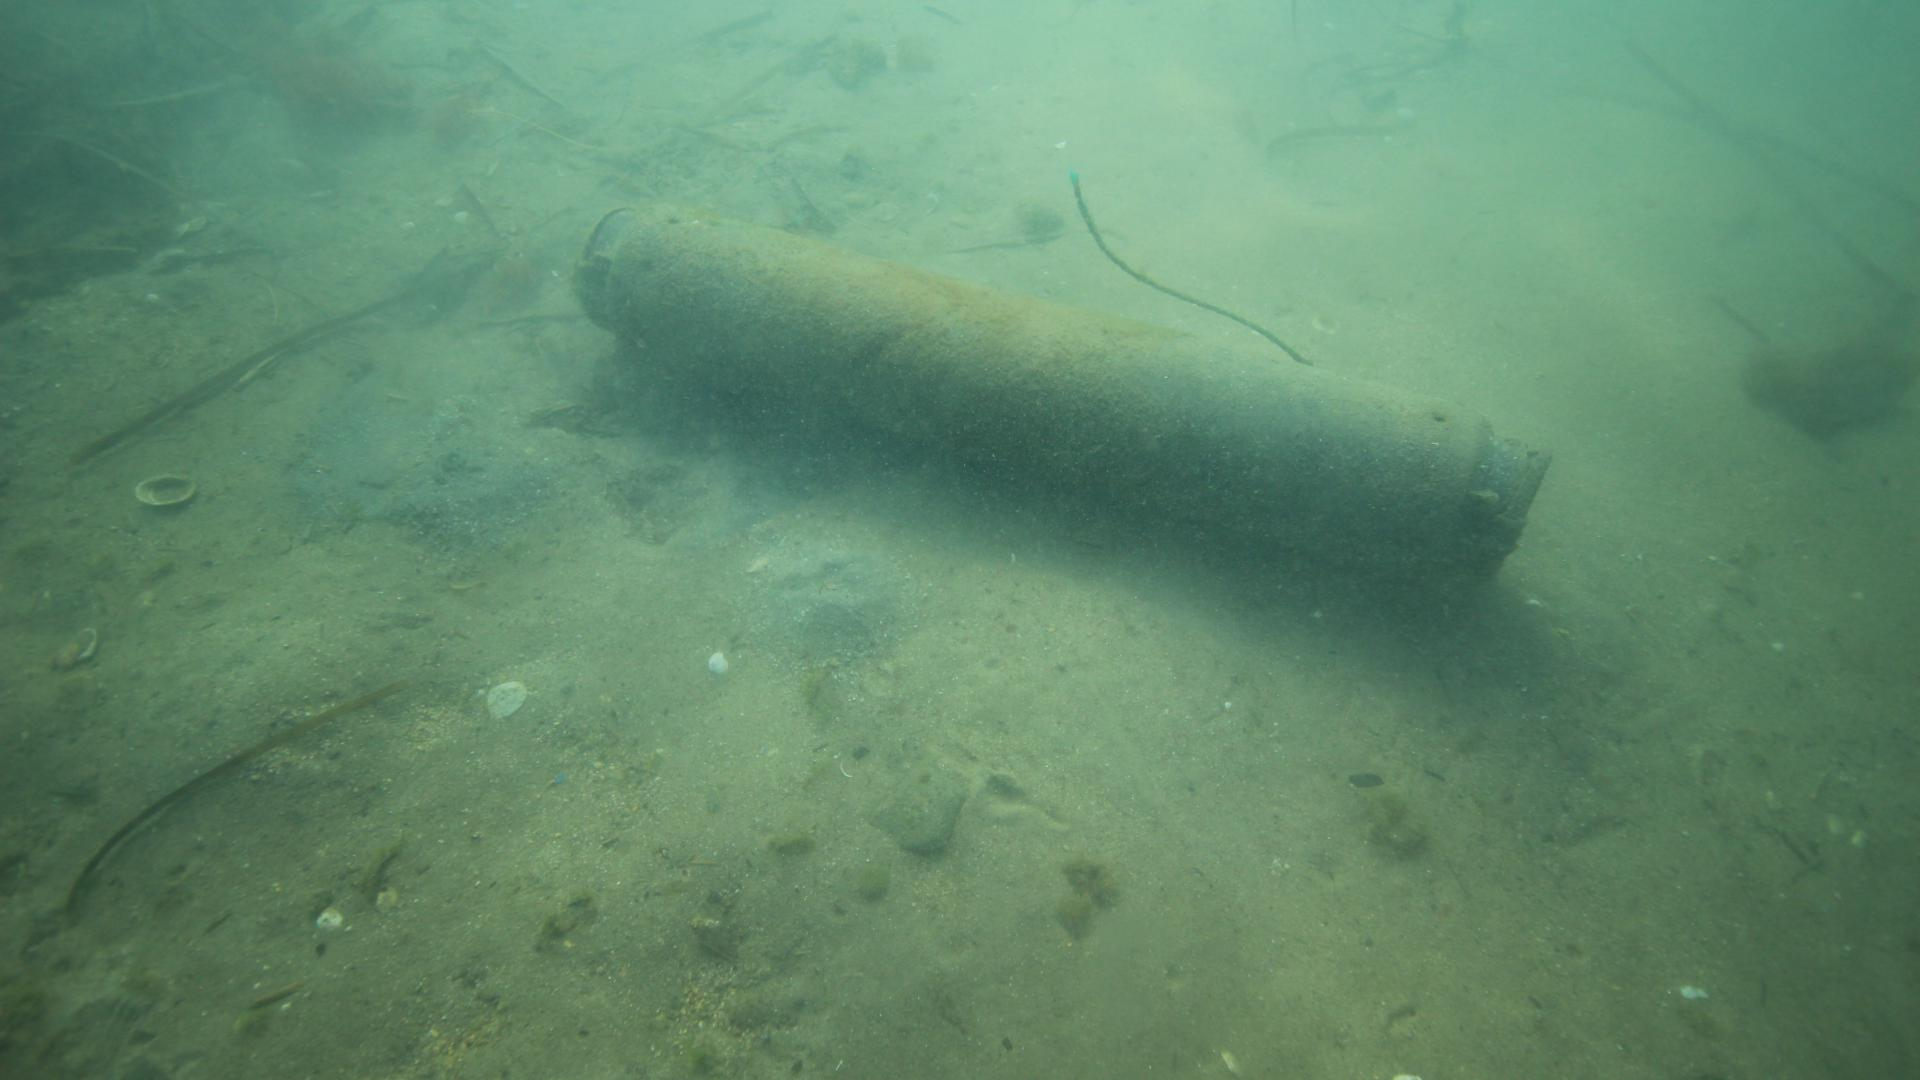eel fish trap: (574, 203, 1556, 582)
rope: (1062, 164, 1317, 365)
